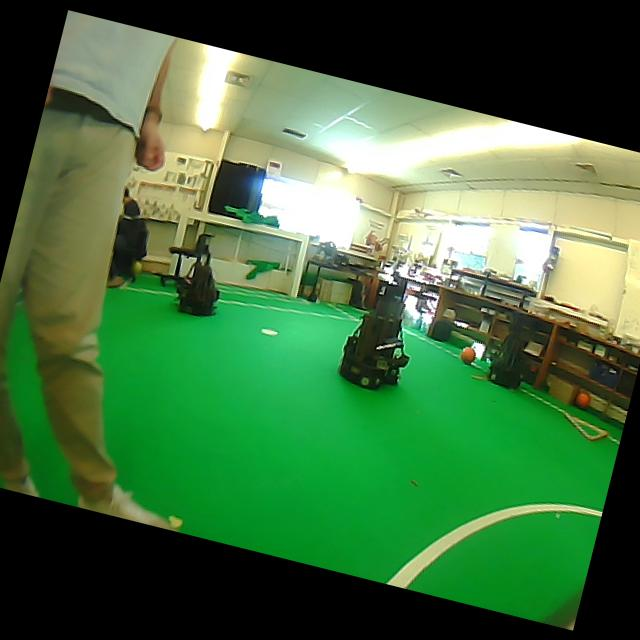ball: (574, 390, 591, 408), (459, 346, 475, 363), (131, 260, 141, 281)
goal: (289, 235, 308, 296)
robot: (339, 281, 409, 388), (176, 233, 218, 315), (488, 333, 523, 388)
